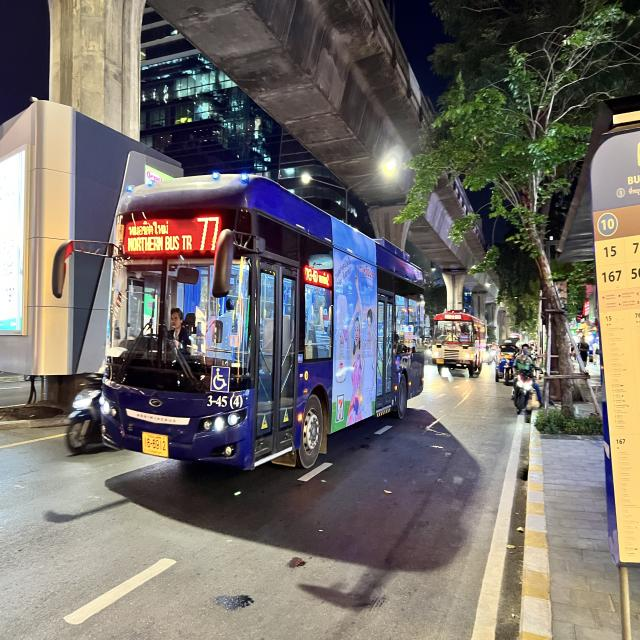BMTA-bus: (431, 308, 488, 380)
Bus-Line-Number: (196, 210, 220, 252), (445, 314, 462, 319)
Destination-Sign-Normal: (125, 218, 192, 255), (459, 335, 472, 341)
TSB-Bus: (98, 164, 428, 482)
